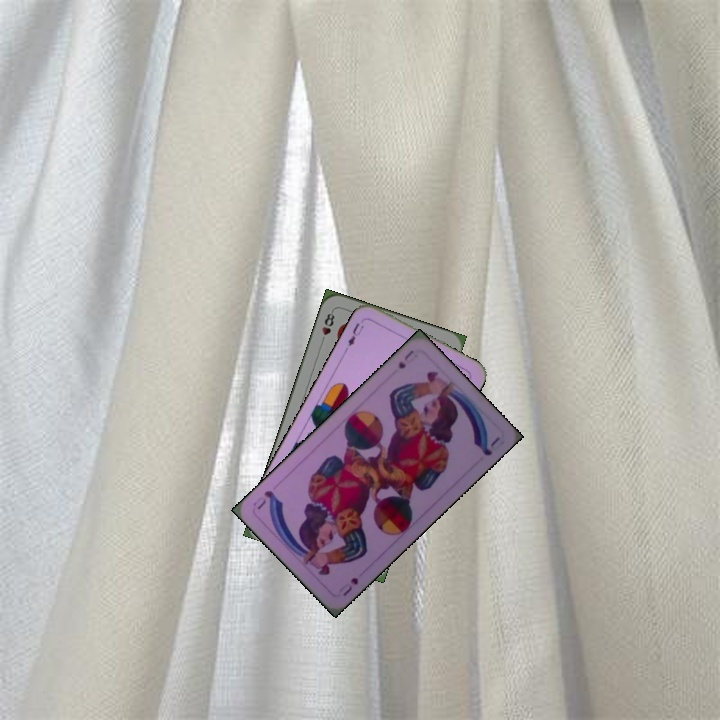EU: (344, 315, 367, 349)
H8: (317, 307, 337, 346)
SU: (334, 573, 361, 598), (394, 346, 416, 372)
